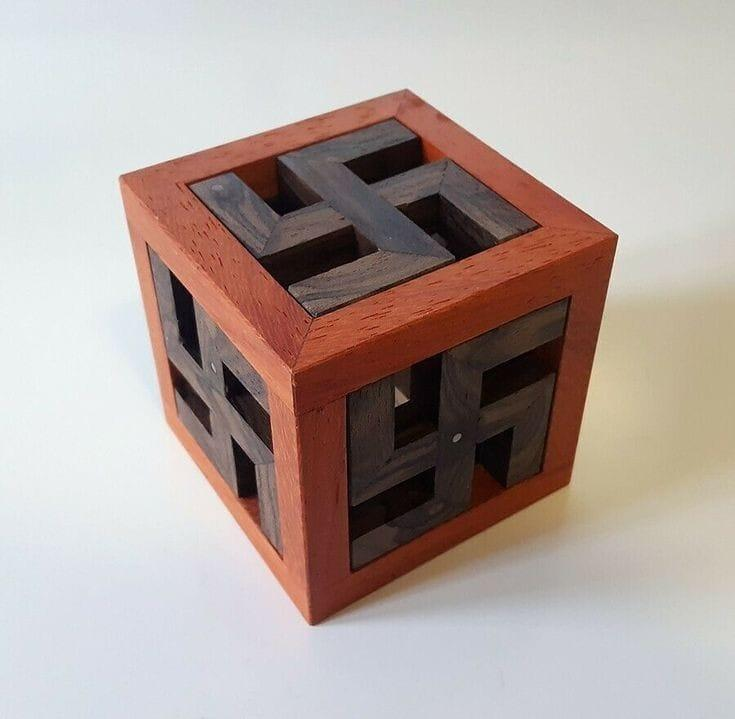cubos: (93, 77, 645, 653)
